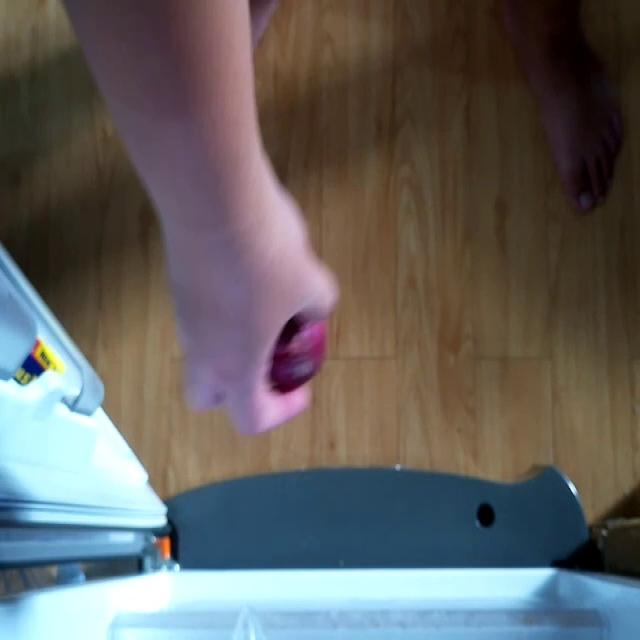onion: (267, 307, 332, 392)
